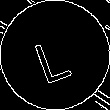L_N: (32, 26, 78, 84)
